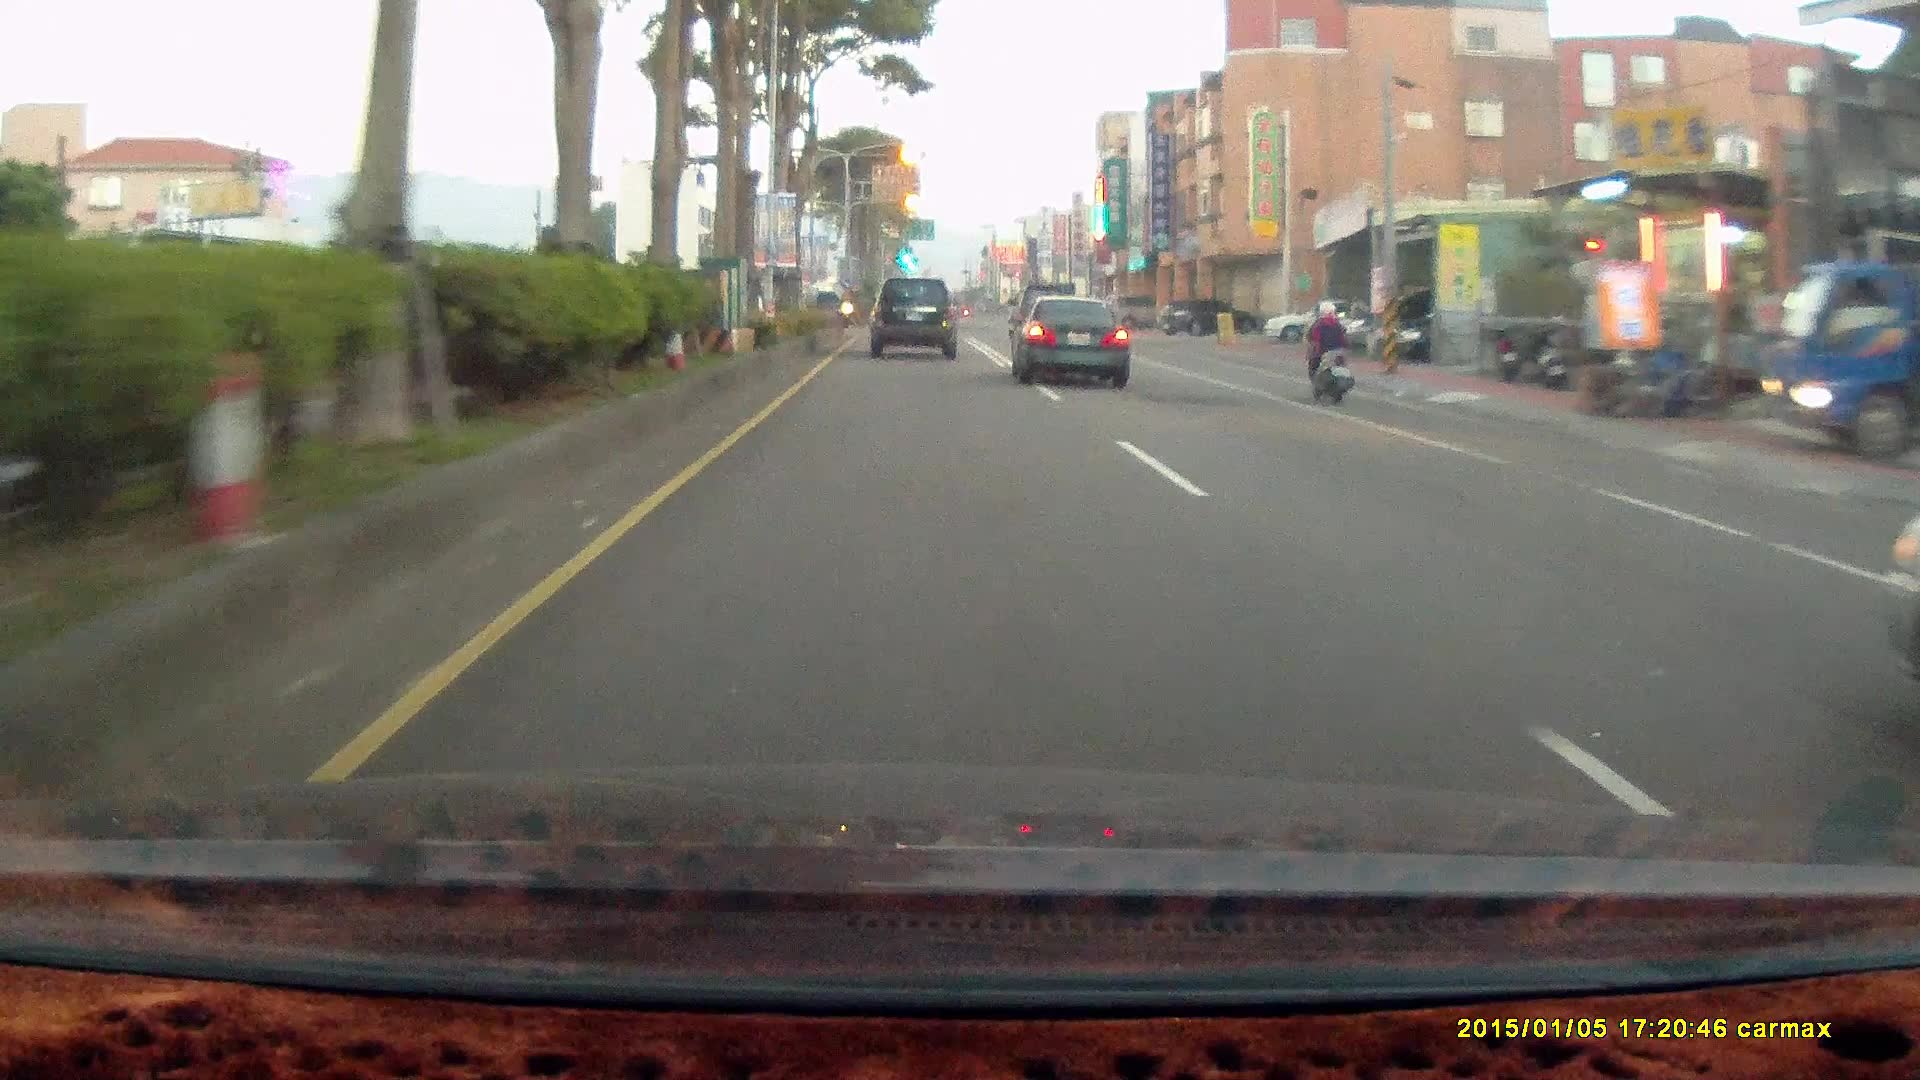rider: (1295, 291, 1363, 412), (1296, 295, 1355, 401)
vehicle: (1757, 259, 1920, 463), (1757, 259, 1920, 460), (1016, 294, 1138, 390), (1008, 292, 1130, 385), (1388, 297, 1516, 362), (872, 274, 961, 361), (868, 275, 956, 358), (1882, 511, 1920, 691), (1264, 297, 1387, 345), (1163, 296, 1257, 341), (1155, 298, 1253, 338), (1106, 291, 1179, 328)
